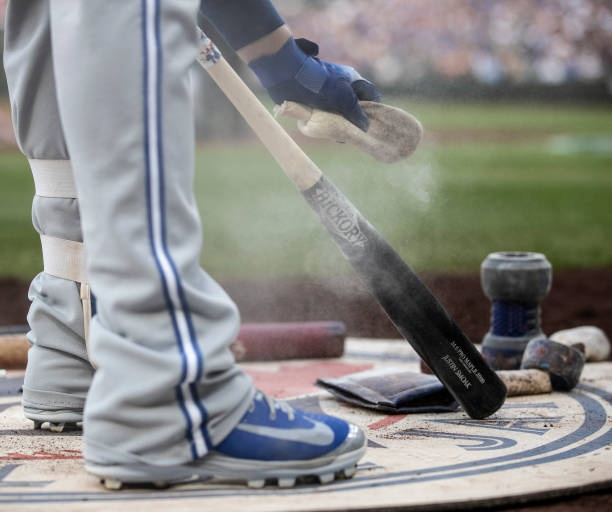bita: (185, 26, 506, 421)
